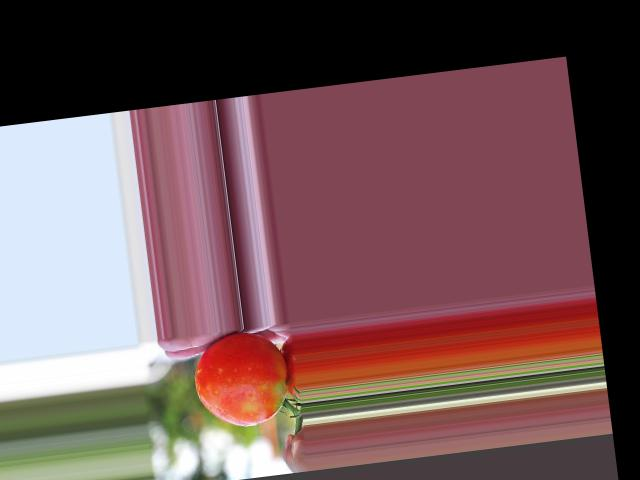tomato: (190, 328, 291, 431)
